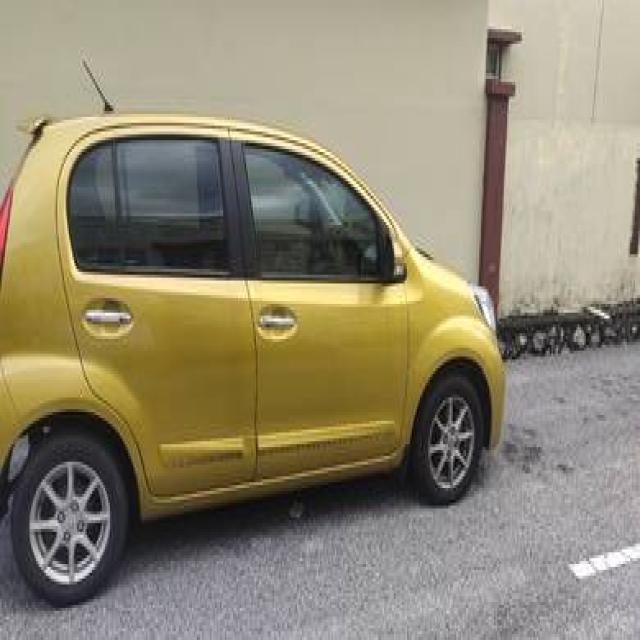PeroduaMyvi: (0, 58, 507, 608)
